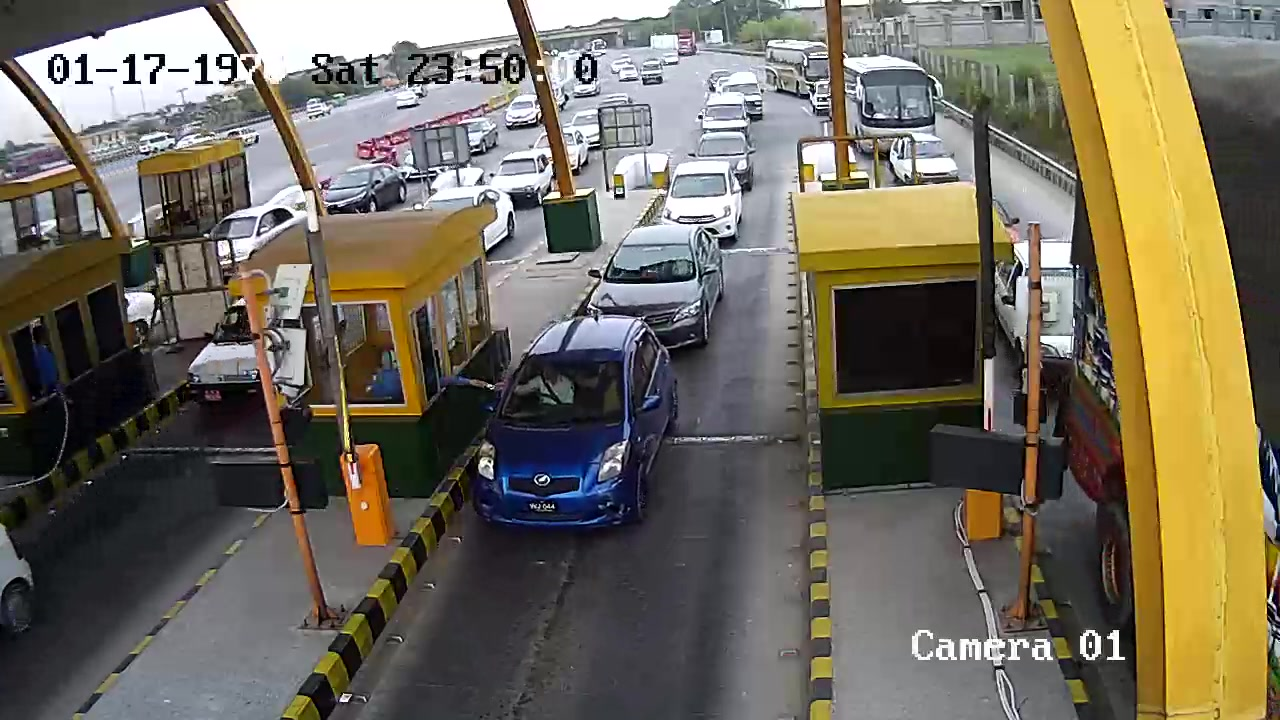F1: (464, 313, 689, 541)
